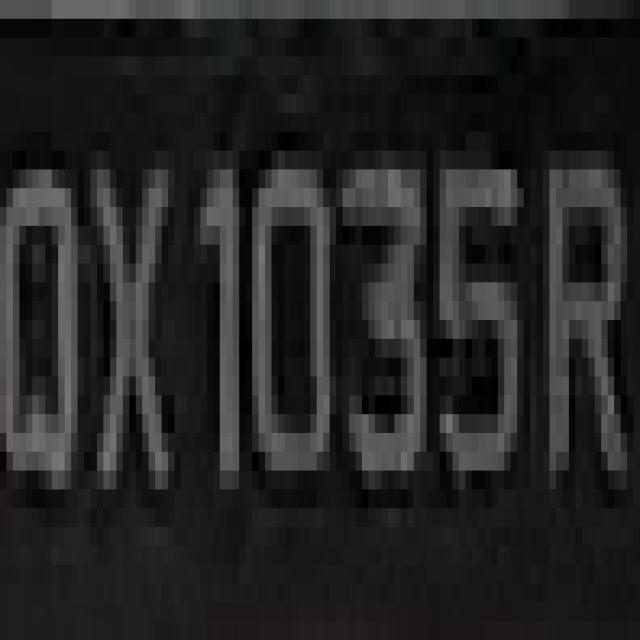0: (239, 56, 330, 546)
1: (207, 56, 252, 584)
3: (343, 76, 433, 508)
5: (427, 75, 517, 527)
Q: (7, 75, 84, 527)
R: (530, 94, 627, 565)
X: (78, 75, 168, 565)
